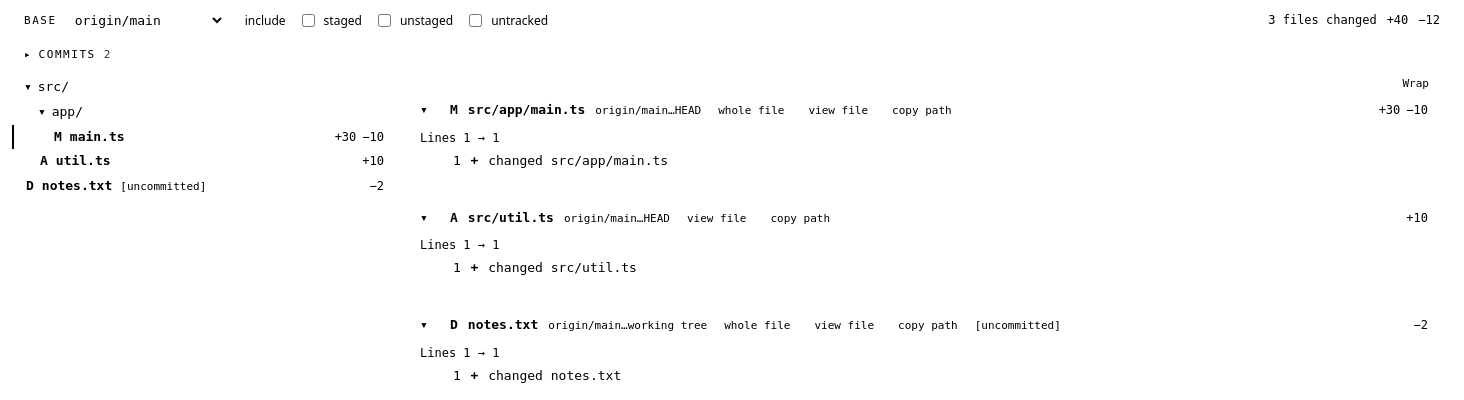
Test: per-file diffs › a file section collapses and re-expands
Step 1. Click the 1st button with class "collapse-btn" → (430, 110), box left=420, top=101, right=440, bottom=120
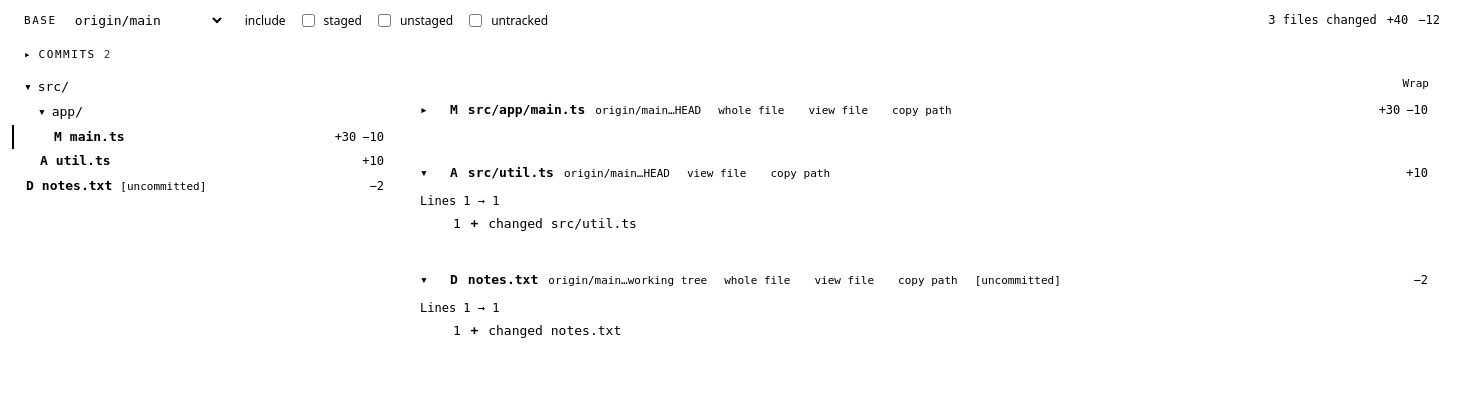
Result: the button with class "collapse-btn" is collapsed
Result: the text "Lines 1 → 1 1 + changed src/app/main.ts" is gone
Step 2. Click the button with class "collapse-btn" showing "▸" → (430, 110), box left=420, top=101, right=440, bottom=120
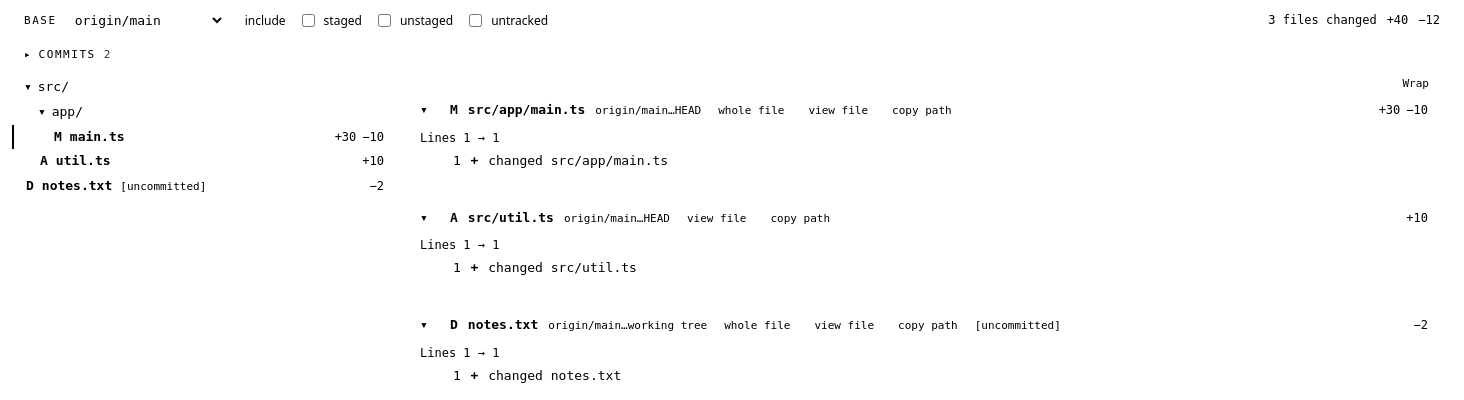
Result: the 1st element with class "file-diff-body" is shown at left=420, top=131, right=668, bottom=167
